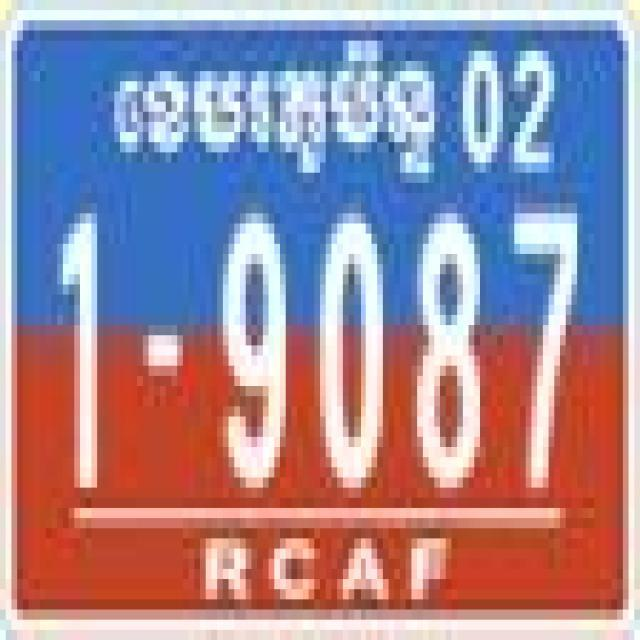RCAF: (103, 31, 444, 191)
